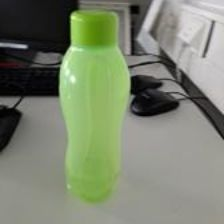bottle: (55, 9, 132, 203)
